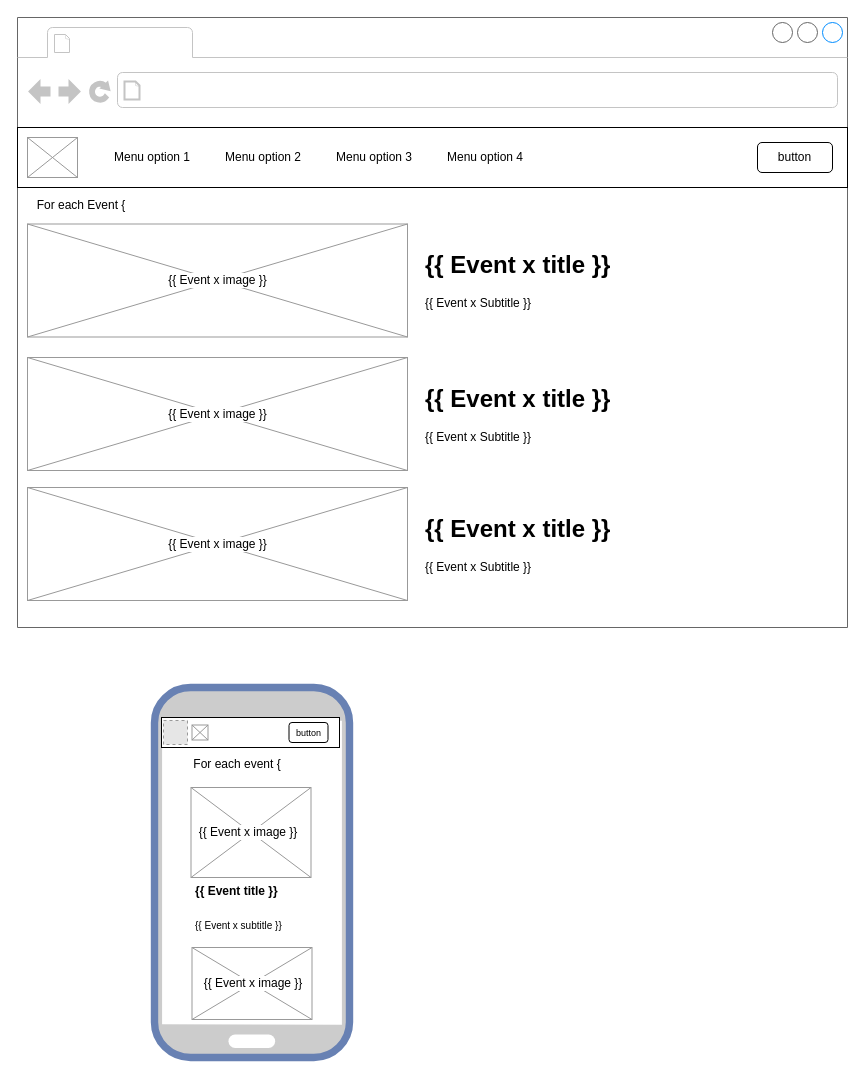
This 865x1076 diagram has some shape labels left out. Grey dashed boxes stand in for pictures. Each missing label, with the centre of its shape:
"Events" belongs at [132,42].
"https://www.falkirk.co.uk" belongs at [272,90].
